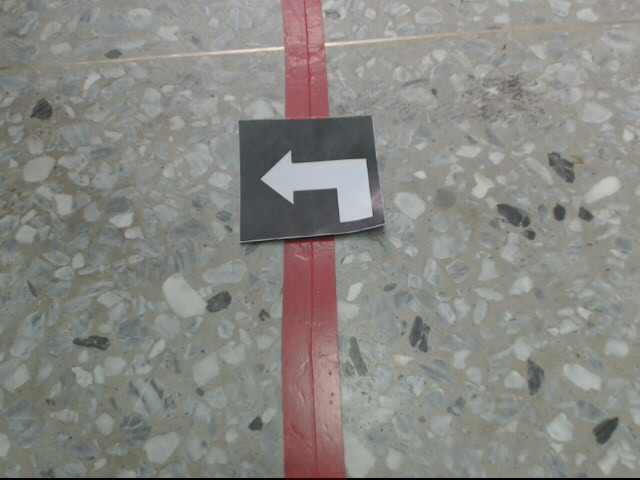left: (237, 113, 385, 245)
